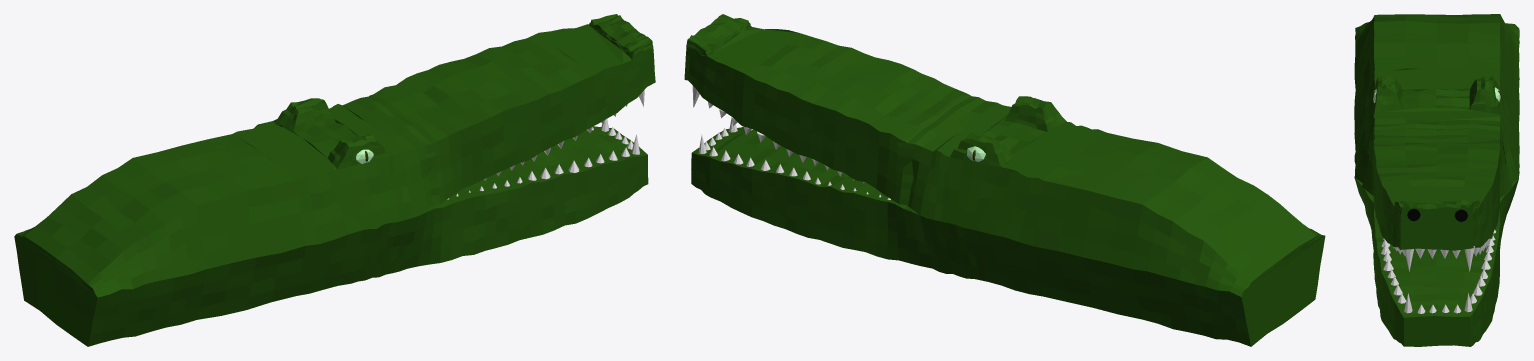
The model's file is Cocodrilo Movimiento Boca.fbx.
3 renders of one model, left to right at view 1: azimuth 30°, elevation 25°; view 2: azimuth 150°, elevation 25°; view 3: azimuth 270°, elevation 25°, orthographic. The views are drawn at different scales.
Parts seen in each view (by area): view 1: Cube.003, Cube.004; view 2: Cube.003, Cube.004; view 3: Cube.003, Cube.004.
Boxes of the visible parts, box(x1,y1,x2,y2) form: Cube.003: box(14, 96, 648, 346); Cube.004: box(368, 14, 655, 204); Cube.003: box(691, 96, 1325, 346); Cube.004: box(684, 14, 971, 204); Cube.003: box(1354, 14, 1519, 346); Cube.004: box(1362, 128, 1512, 271).
Bounding box in the file's own units: 242 × 63.38 × 61.1.
